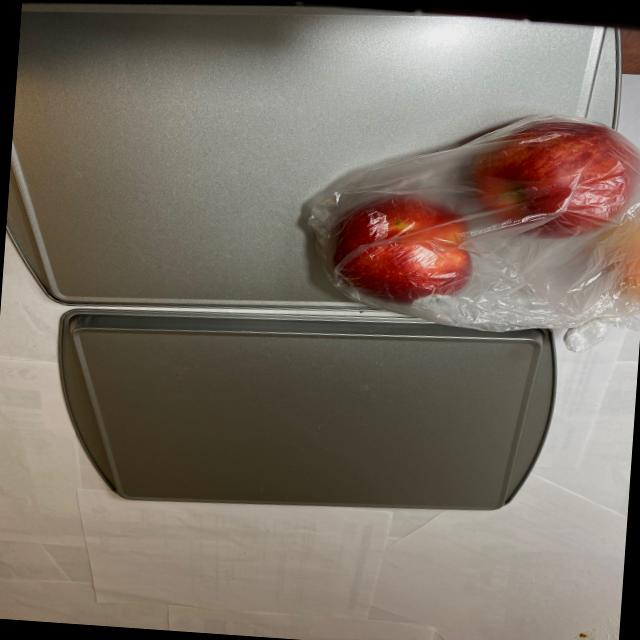apple: (322, 96, 640, 323)
